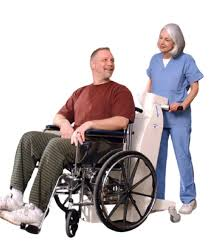wheelchair: (4, 47, 158, 237)
